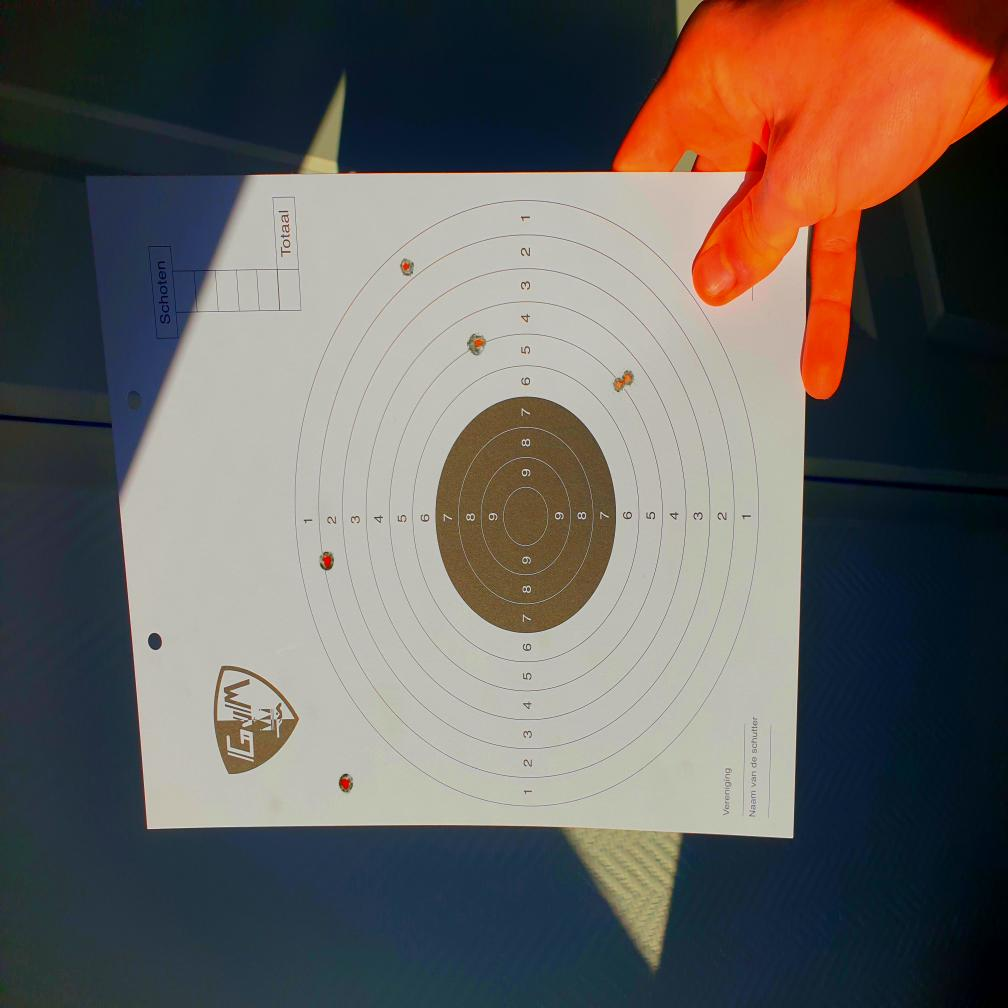0: (338, 771, 354, 794)
1: (400, 257, 414, 277)
2: (318, 550, 335, 571)
4: (622, 369, 636, 387)
5: (467, 332, 486, 356), (612, 375, 625, 393)
Target: (292, 195, 760, 811)
black_contour: (434, 397, 616, 631)
